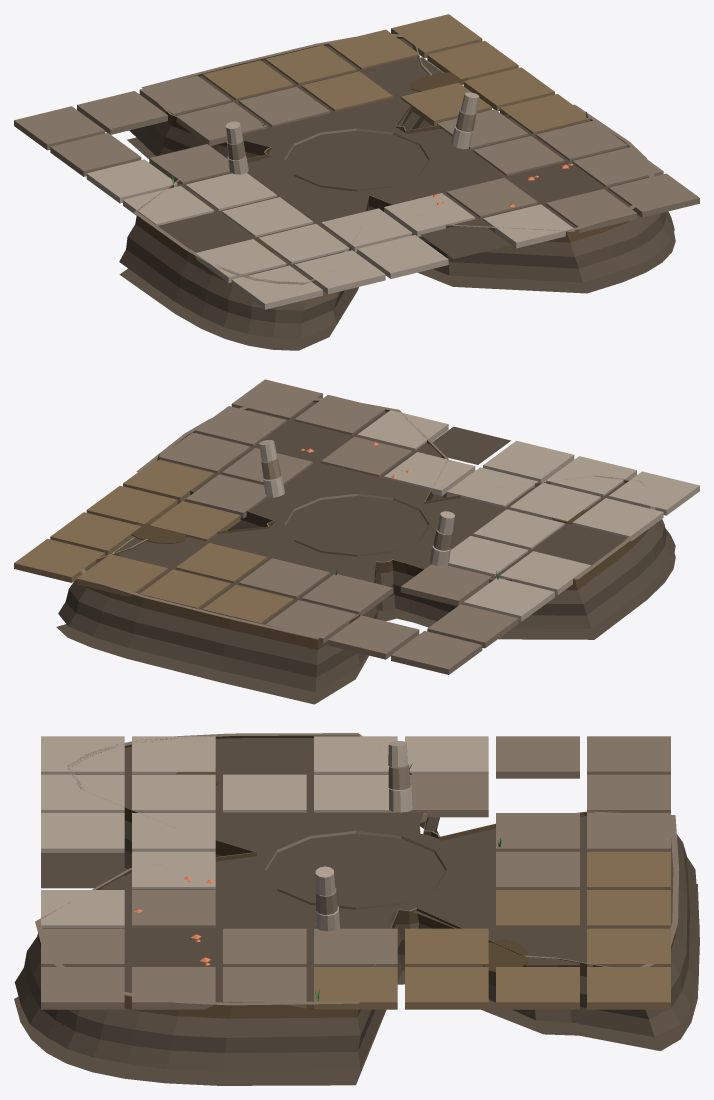
The model's file is SunkenPlaza.fbx.
The picture shows the model from 3 angles, top to bottom: view 1: azimuth 30°, elevation 25°; view 2: azimuth 150°, elevation 25°; view 3: azimuth 270°, elevation 25°; orthographic projection. The views are drawn at different scales.
Visible parts, largest first — view 1: SunkenPlaza; view 2: SunkenPlaza; view 3: SunkenPlaza.
Boxes of the visible parts, left/top/right/bottom form: SunkenPlaza: left=14, top=14, right=699, bottom=350; SunkenPlaza: left=14, top=379, right=699, bottom=704; SunkenPlaza: left=14, top=733, right=699, bottom=1085.
Bounding box in the file's own units: 3018 × 649 × 3015.
